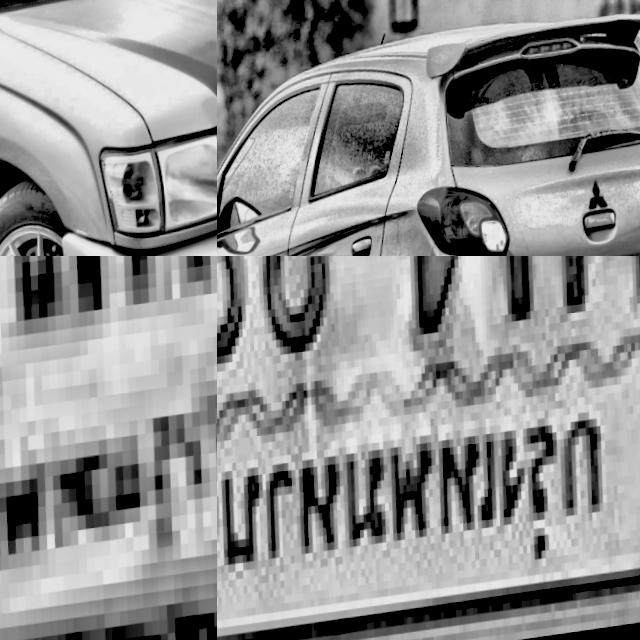license-plate: (217, 256, 640, 640), (0, 256, 217, 640)
